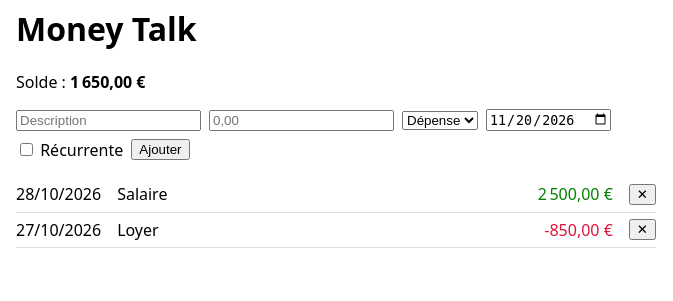
App › ajoute une transaction
Expected: the text "Salaire" is shown, [117, 183, 167, 205]
In the field labelled "Description": (108, 120) [16, 110, 201, 131], type "Cinema"
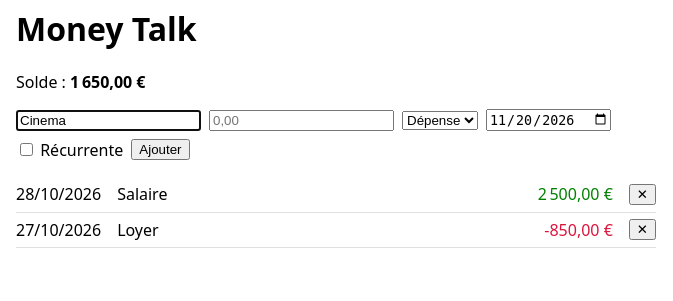
In the field named "Montant": (302, 120) [209, 110, 394, 131], type "10"
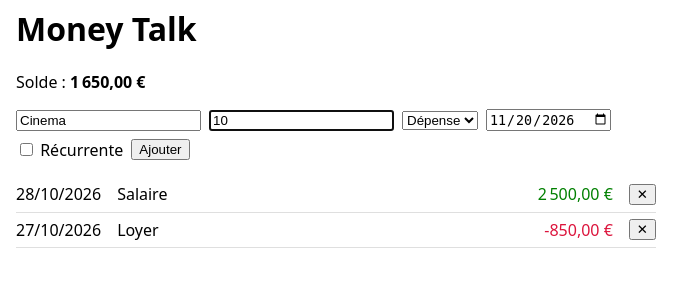
Click the button "Ajouter": (160, 150) [131, 139, 190, 160]
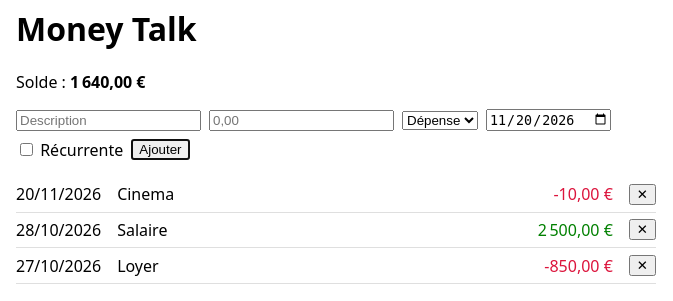
Expected: the text "Cinema" is shown, [117, 183, 174, 205]
